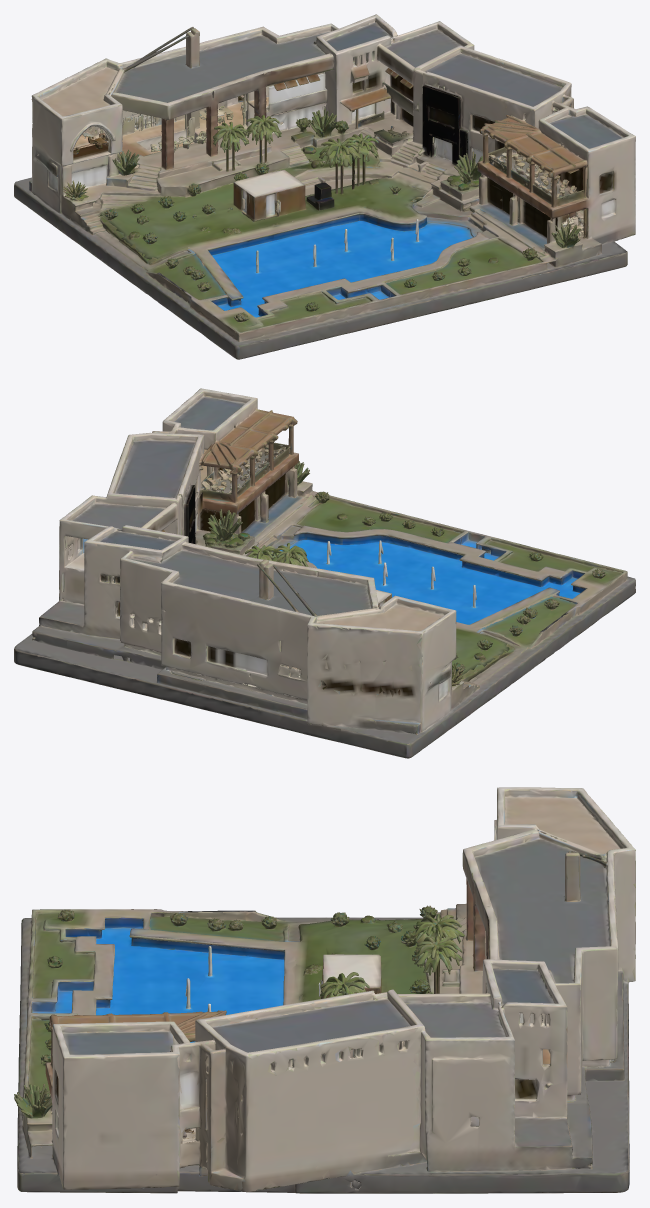
File: tivoli-dome-1.glb
3 views of the same model, one above another, from view 1: azimuth 30°, elevation 25°; view 2: azimuth 150°, elevation 25°; view 3: azimuth 270°, elevation 25° (orthographic). The views are drawn at different scales.
Bounding box in the file's own units: 0.9991 × 0.3221 × 0.9549.
Materials: 1 (1 with a texture image).
